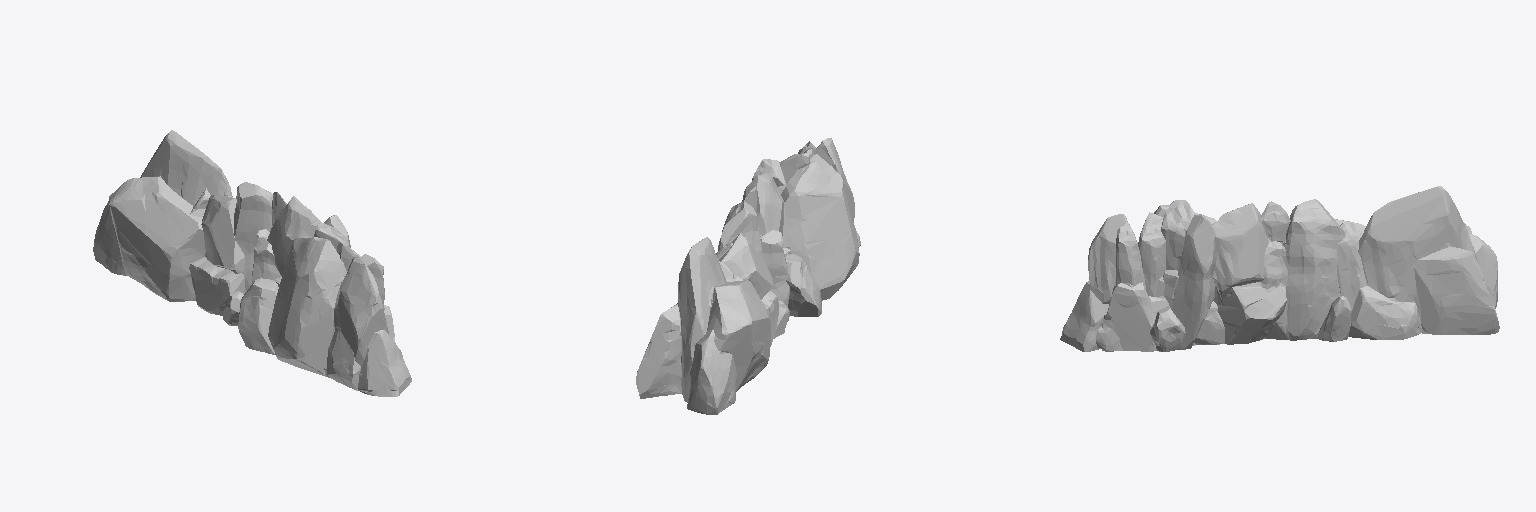
Rendered from SM_Rock_Formation_03_V1.obj.
3 views of the same model, side by side, from view 1: azimuth 30°, elevation 25°; view 2: azimuth 150°, elevation 25°; view 3: azimuth 270°, elevation 25° (orthographic).
Parts seen in each view (by area): view 1: SM_Rock_Formation_03_V1; view 2: SM_Rock_Formation_03_V1; view 3: SM_Rock_Formation_03_V1.
Part boxes in pixels (x1,y1,x2,y2): SM_Rock_Formation_03_V1: (93, 130, 411, 396); SM_Rock_Formation_03_V1: (636, 138, 860, 414); SM_Rock_Formation_03_V1: (1060, 186, 1499, 351).
Size of the model in its own units: 401 by 407 by 1189.